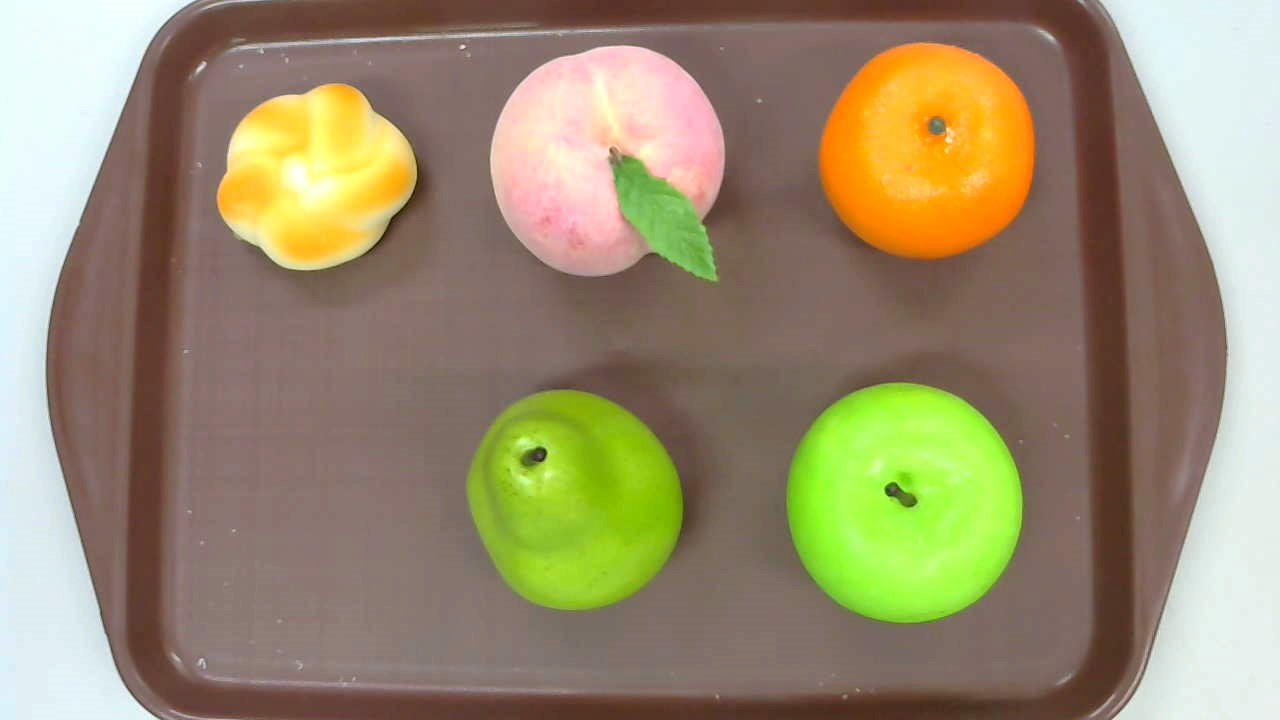green apple: (785, 382, 1022, 624)
green pear: (466, 387, 683, 613)
orange: (816, 42, 1034, 258)
peaches: (490, 45, 726, 283)
twist bread: (216, 83, 417, 272)
